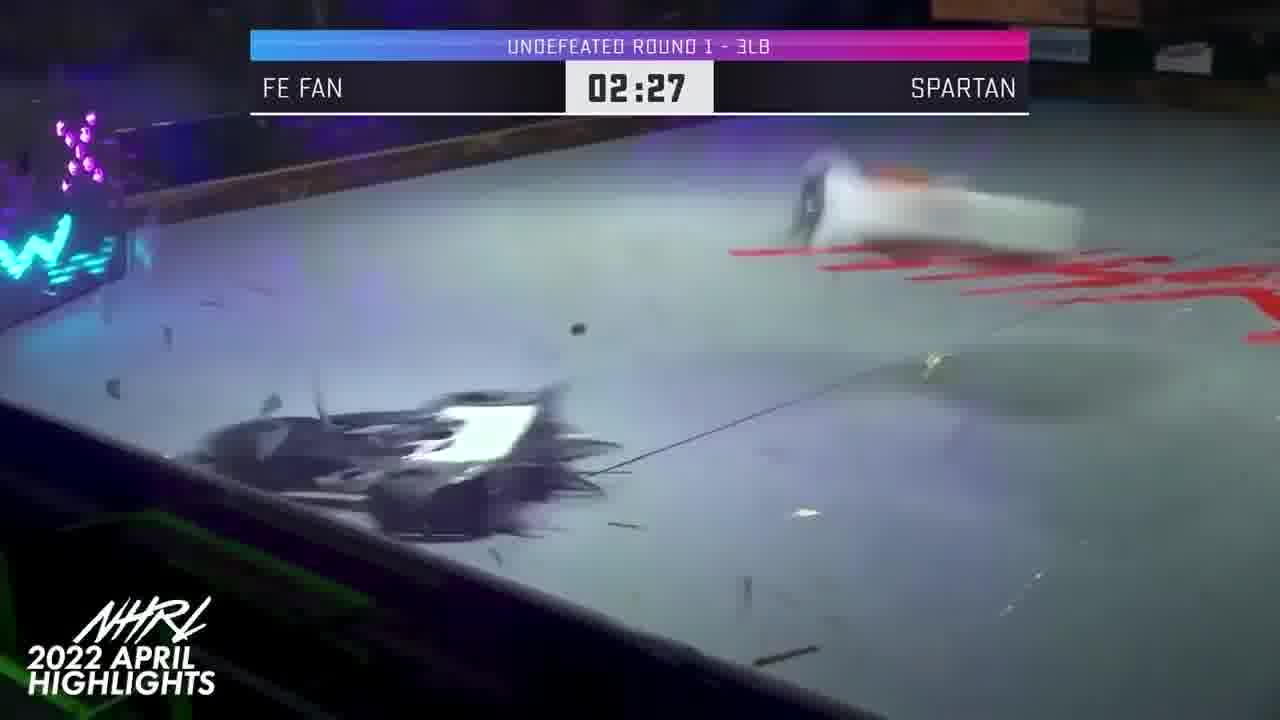combatbot: (194, 358, 563, 541), (785, 152, 1085, 257)
housebot: (0, 83, 134, 340)
